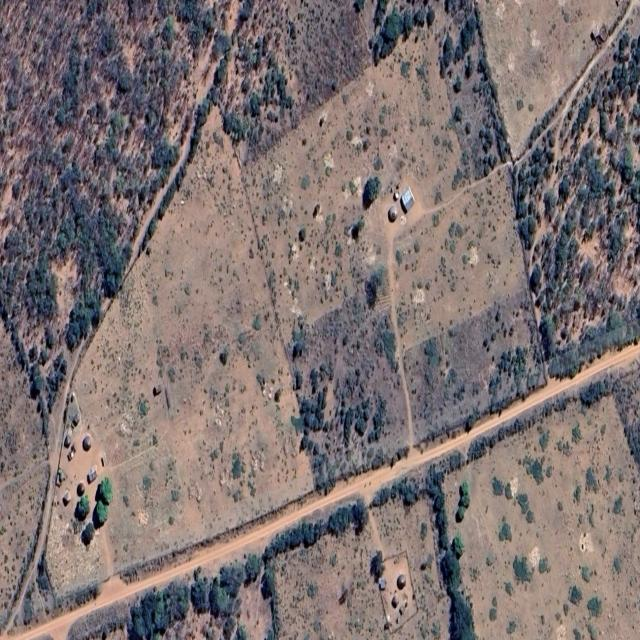boundaries: (8, 320, 640, 640), (133, 366, 621, 640), (1, 55, 232, 614), (455, 6, 637, 199), (380, 231, 421, 457), (2, 302, 58, 442)
